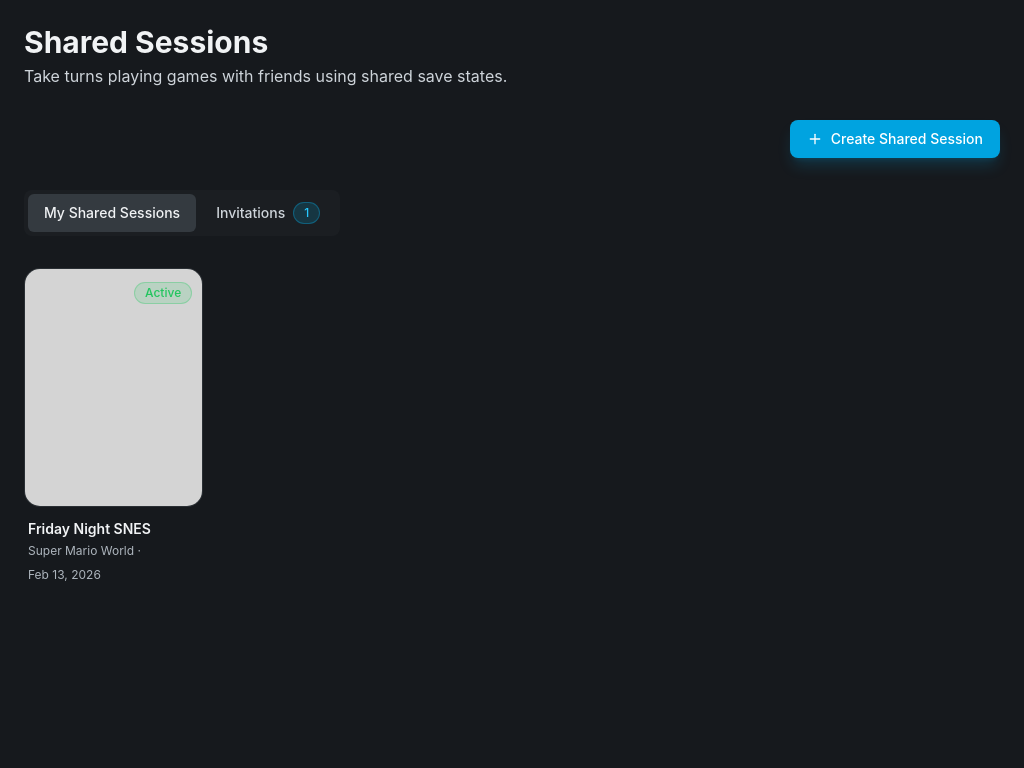
Test: SharedSessionsPage › switches to Invitations tab and shows invitations
The width and height of the screenshot is (1024, 768).
Click the tab "Invitations 1". click: (268, 213)
box: [200,194,336,232]
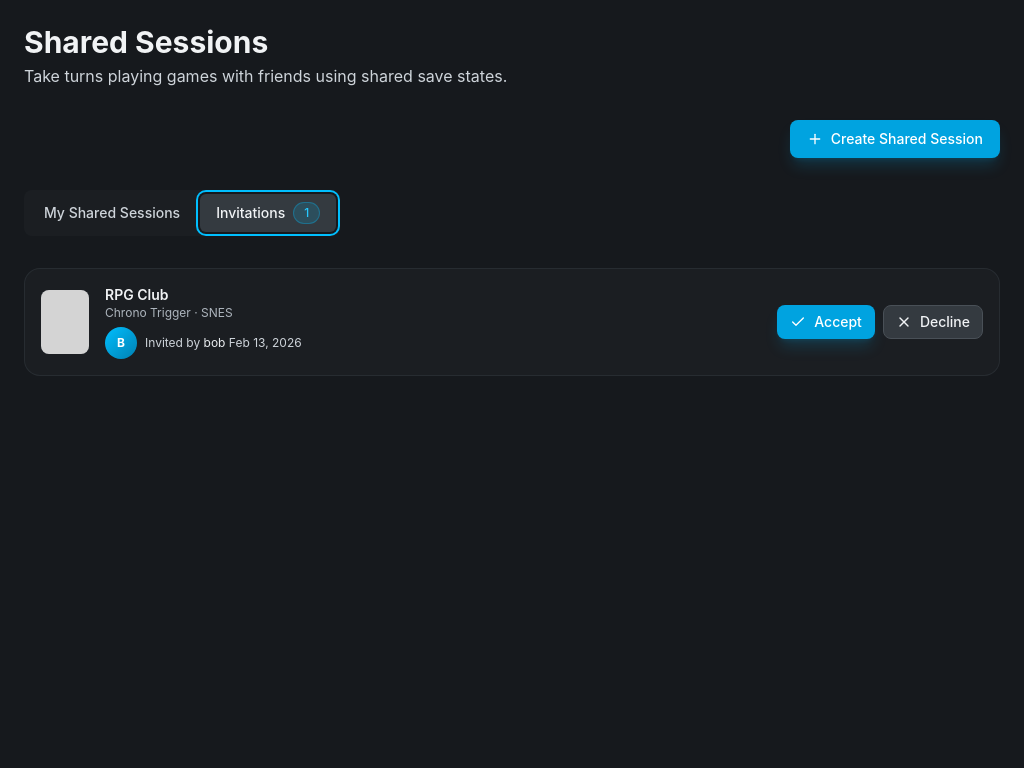
Check: the text "RPG Club" is shown, box [105,286,168,303]
Check: the element with test id "shared-session-invitation-inv-1" is shown, box [24,268,1000,376]
